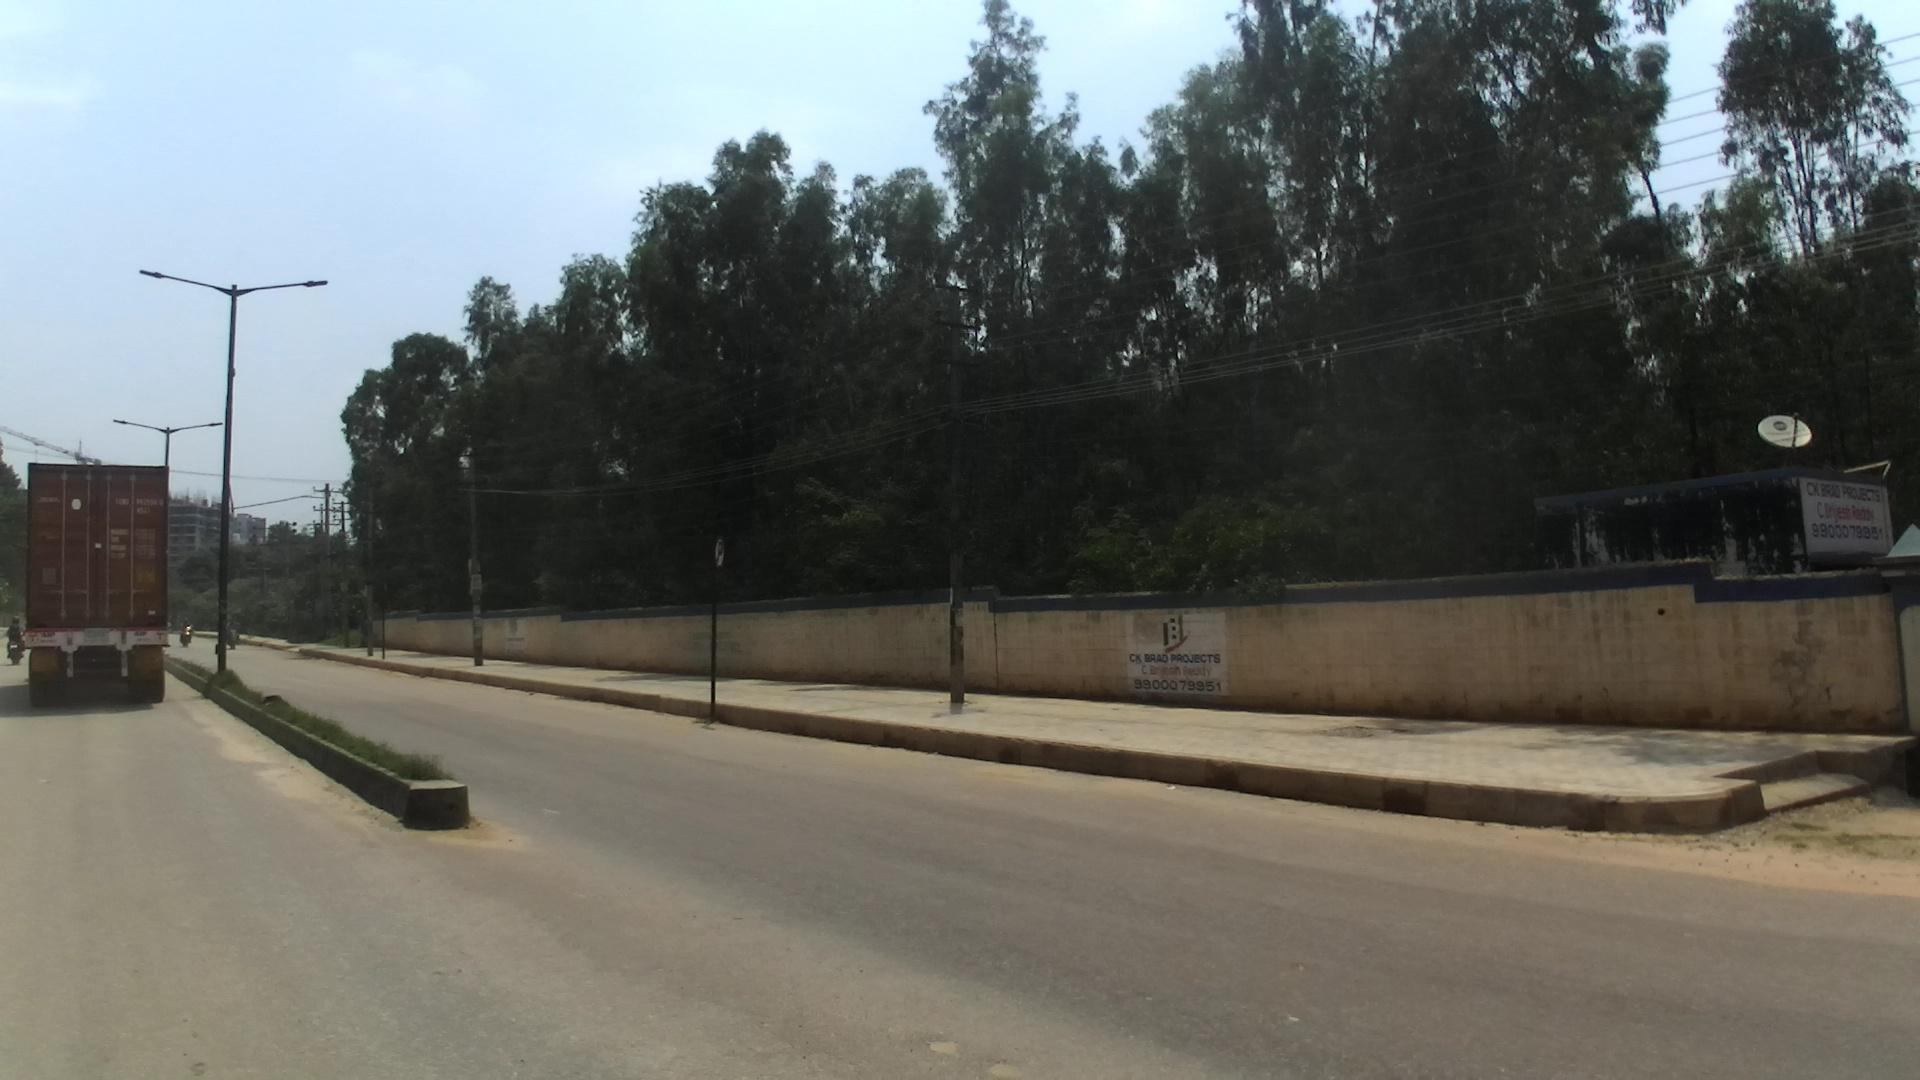off: (0, 0, 1920, 1080), (731, 372, 744, 378)
